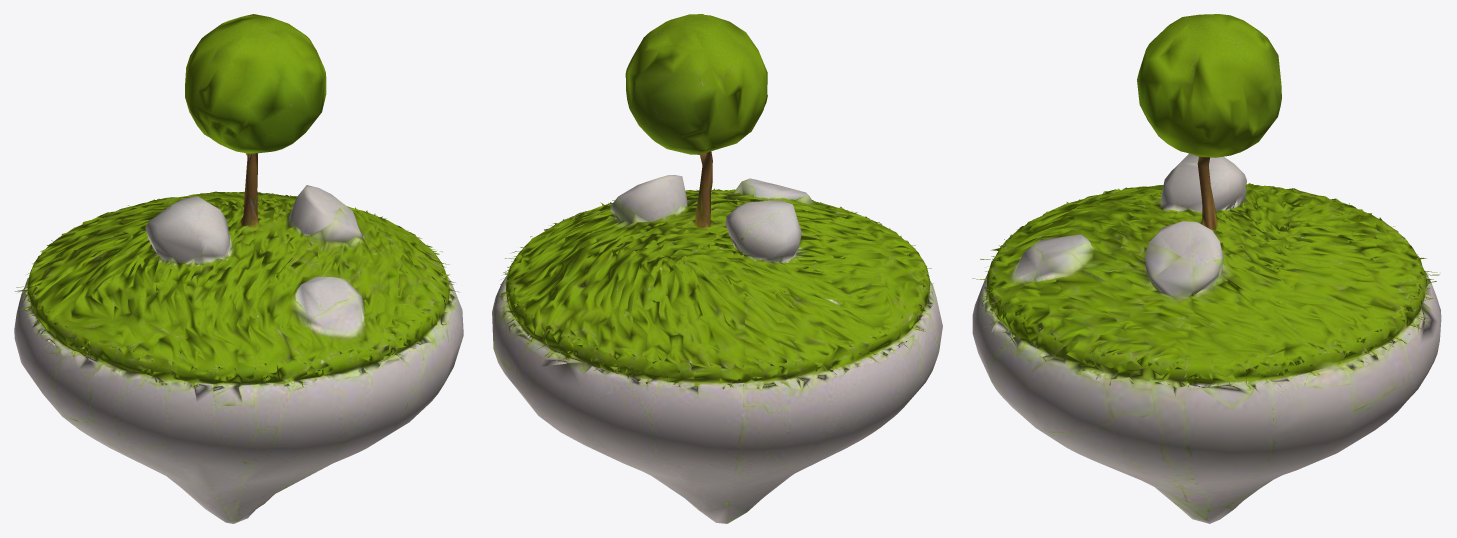
File: island-tree.glb
3 renders of one model, left to right at view 1: azimuth 30°, elevation 25°; view 2: azimuth 150°, elevation 25°; view 3: azimuth 270°, elevation 25°, orthographic. The views are drawn at different scales.
Bounding box in the file's own units: 1.59 × 1.89 × 1.58.
Materials: 1 (1 with a texture image).
